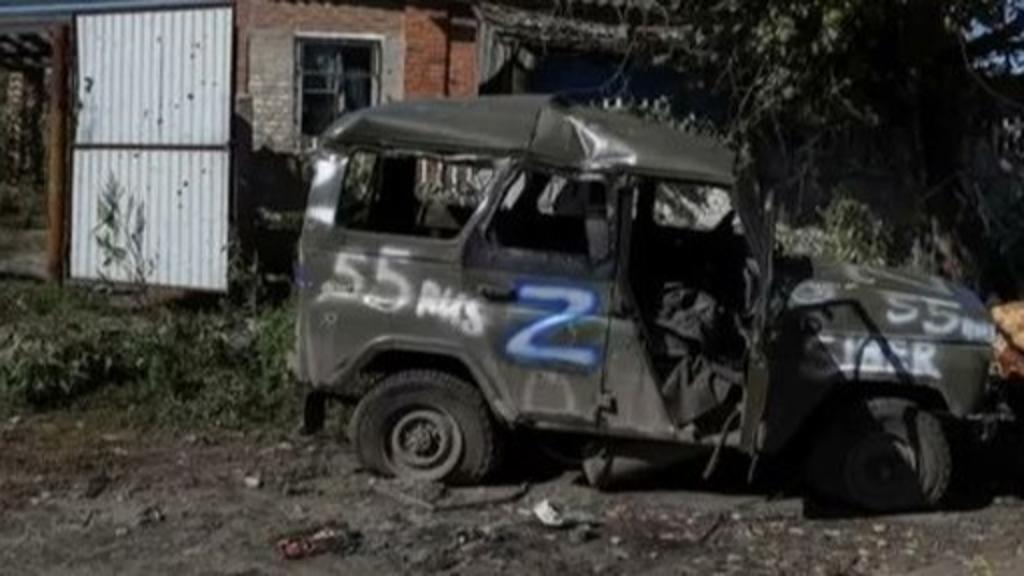CAR: (276, 82, 1000, 522)
